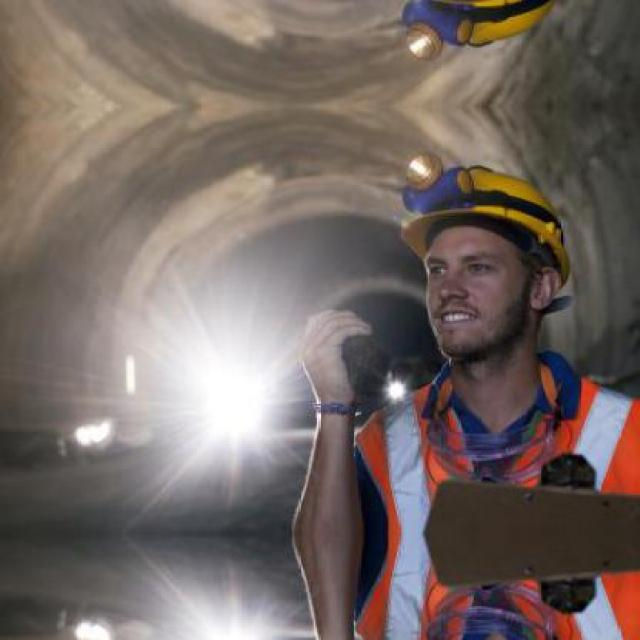helmet: (379, 147, 578, 385), (378, 0, 578, 66)
